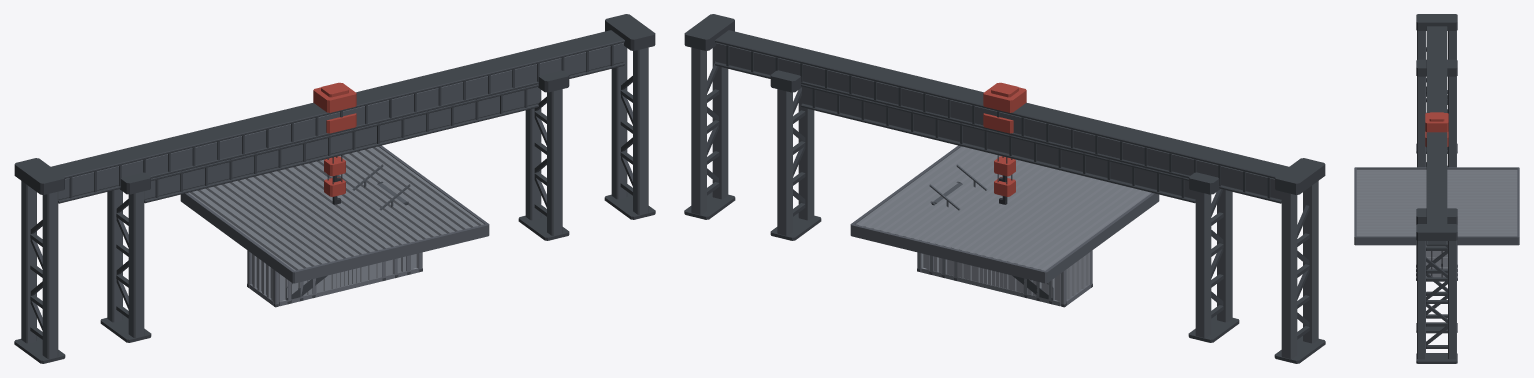
Rendered from Kit.fbx.
The picture shows the model from 3 angles, left to right: view 1: azimuth 30°, elevation 25°; view 2: azimuth 150°, elevation 25°; view 3: azimuth 270°, elevation 25°; orthographic projection. The views are drawn at different scales.
Parts seen in each view (by area): view 1: WarehouseRoof_W_Roof, GantryDock_G_Steel, GantryDock_G_SteelDark, GantryPier_G_Steel, GantryPier_G_SteelDark, WarehouseRoof_W_Trim, ContainerGrey30_C_Grey, GantryDock_C_Red, ContainerGrey30_C_GreyDark, GantryPier_C_Red, ContainerGrey20_C_Grey; view 2: WarehouseRoof_W_Roof, GantryDock_G_Steel, GantryDock_G_SteelDark, GantryPier_G_Steel, GantryPier_G_SteelDark, WarehouseRoof_W_Trim, ContainerGrey30_C_Grey, GantryDock_C_Red, ContainerGrey30_C_GreyDark, GantryPier_C_Red, ContainerGrey20_C_Grey; view 3: WarehouseRoof_W_Roof, GantryDock_G_SteelDark, GantryDock_G_Steel, WarehouseRoof_W_Trim, GantryPier_G_Steel, GantryPier_G_SteelDark, GantryDock_C_Red, ContainerGrey30_C_Grey.
Boxes of the visible parts, x1,y1,x2,y2 form: WarehouseRoof_W_Roof: (188, 146, 484, 270); GantryDock_G_Steel: (21, 42, 648, 358); GantryDock_G_SteelDark: (14, 14, 655, 363); GantryPier_G_Steel: (107, 87, 562, 337); GantryPier_G_SteelDark: (100, 70, 569, 342); WarehouseRoof_W_Trim: (180, 145, 489, 283); ContainerGrey30_C_Grey: (252, 253, 418, 301); GantryDock_C_Red: (313, 82, 356, 176); ContainerGrey30_C_GreyDark: (247, 250, 422, 306); GantryPier_C_Red: (324, 113, 356, 196); ContainerGrey20_C_Grey: (304, 259, 393, 295); WarehouseRoof_W_Roof: (855, 146, 1151, 270); GantryDock_G_Steel: (691, 42, 1318, 358); GantryDock_G_SteelDark: (684, 14, 1325, 363); GantryPier_G_Steel: (777, 87, 1232, 337); GantryPier_G_SteelDark: (770, 70, 1239, 342); WarehouseRoof_W_Trim: (850, 145, 1159, 283); ContainerGrey30_C_Grey: (921, 252, 1089, 301); GantryDock_C_Red: (983, 82, 1026, 176); ContainerGrey30_C_GreyDark: (917, 250, 1092, 306); GantryPier_C_Red: (983, 113, 1015, 196); ContainerGrey20_C_Grey: (946, 259, 1035, 295); WarehouseRoof_W_Roof: (1356, 169, 1517, 236); GantryDock_G_SteelDark: (1416, 14, 1457, 363); GantryDock_G_Steel: (1417, 30, 1456, 359); WarehouseRoof_W_Trim: (1354, 167, 1519, 245); GantryPier_G_Steel: (1417, 76, 1456, 167); GantryPier_G_SteelDark: (1416, 59, 1457, 333); GantryDock_C_Red: (1425, 112, 1448, 132); ContainerGrey30_C_Grey: (1426, 246, 1447, 277).
Size of the model in its own units: 125 by 37 by 40.
